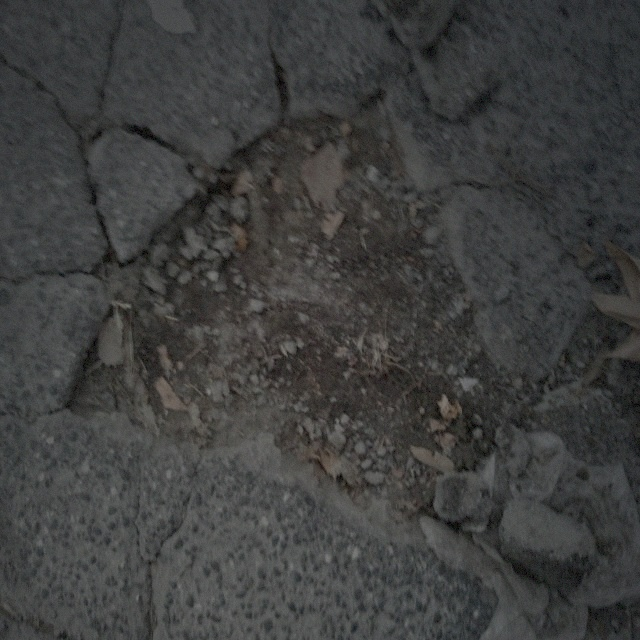pothole: (55, 84, 527, 550)
